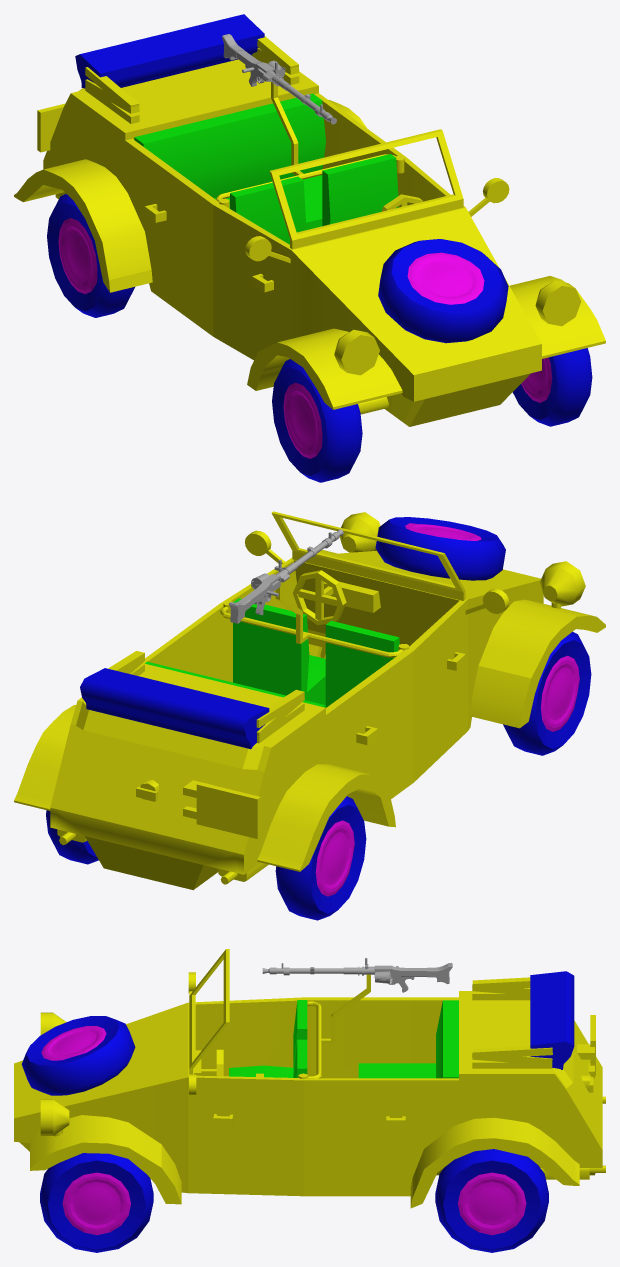
Rendered from Kubelwagen.fbx.
3 renders of one model, top to bottom at view 1: azimuth 30°, elevation 25°; view 2: azimuth 150°, elevation 25°; view 3: azimuth 270°, elevation 25°, orthographic. The views are drawn at different scales.
Parts seen in each view (by area): view 1: Kubelwagen, Wheel_Top, Wheel_FR, Wheel_BR, Wheel_FL, MG34:MG34; view 2: Kubelwagen, Wheel_BR, Wheel_Top, Wheel_FR, MG34:MG34, Wheel_BL; view 3: Kubelwagen, Wheel_BL, Wheel_FL, Wheel_Top, MG34:MG34.
Part boxes in pixels (x1,y1,x2,y2): Kubelwagen: (14,14,605,426); Wheel_Top: (378,239,508,343); Wheel_FR: (272,359,362,482); Wheel_BR: (47,194,134,317); Wheel_FL: (512,348,592,426); MG34:MG34: (236,50,336,124); Kubelwagen: (14,511,605,890); Wheel_BR: (275,796,366,920); Wheel_Top: (375,517,505,580); Wheel_FR: (503,631,591,755); MG34:MG34: (244,529,343,615); Wheel_BL: (46,810,98,864); Kubelwagen: (14,949,605,1208); Wheel_BL: (435,1149,548,1252); Wheel_FL: (40,1153,153,1252); Wheel_Top: (21,1016,135,1095); MG34:MG34: (262,958,427,992).
Bounding box in the file's own units: 187 × 171 × 381.
